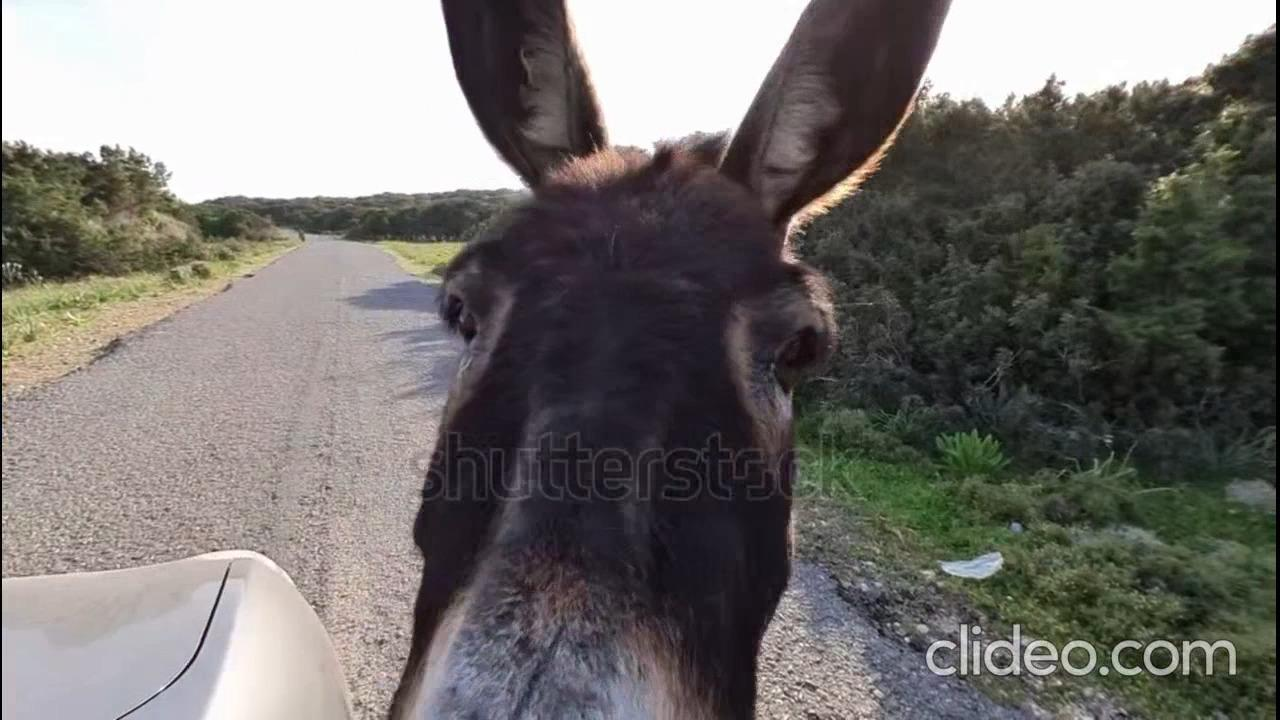Donkey: (380, 0, 946, 720)
